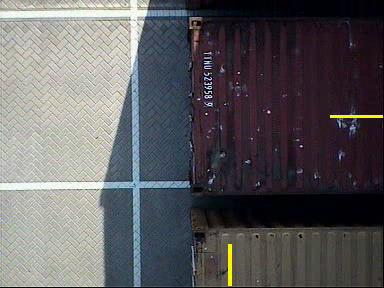groundmarker_2: (145, 125, 197, 165)
